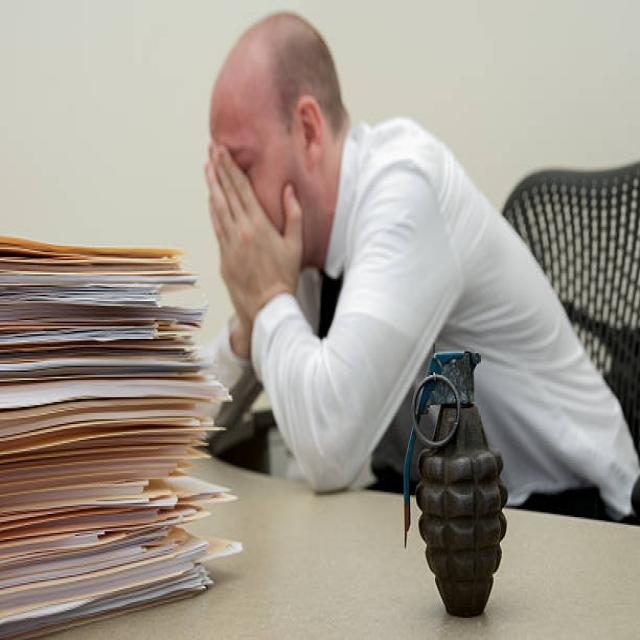grenade: (402, 341, 511, 623)
